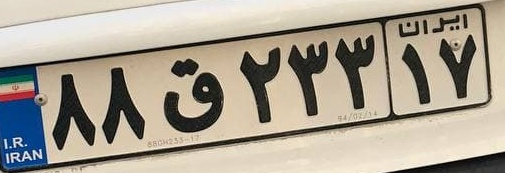character: (159, 57, 230, 135), (235, 42, 285, 128), (97, 61, 149, 143), (49, 71, 100, 154), (283, 37, 333, 120), (331, 31, 381, 113), (434, 32, 481, 101), (393, 41, 436, 108)
